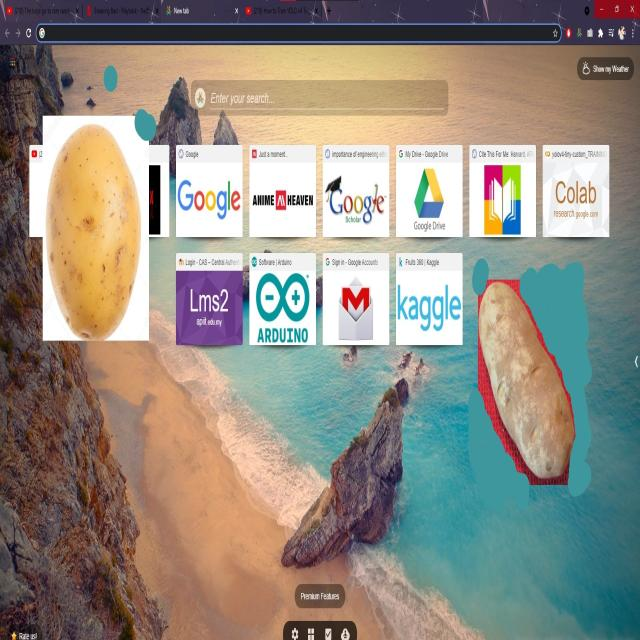potato: (46, 127, 141, 340), (480, 282, 574, 479)
